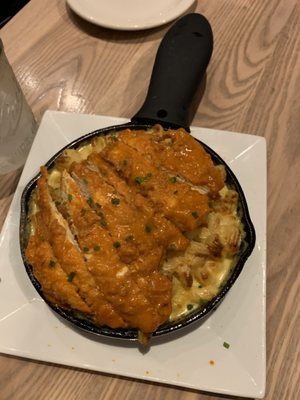sandwich: (74, 12, 214, 138), (131, 12, 215, 132)
